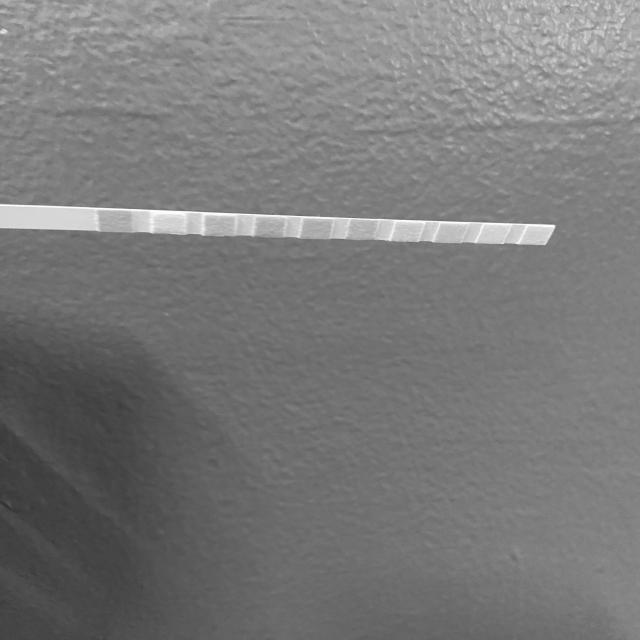Bilirubin: (154, 214, 185, 233)
Blood: (303, 220, 330, 239)
Glucose: (100, 210, 131, 232)
Ketone: (206, 216, 234, 235)
Leukocytes: (530, 226, 545, 245)
Nitrite: (486, 224, 502, 243)
Protein: (397, 222, 418, 241)
SpGravity: (257, 217, 284, 237)
Urobilinogen: (442, 224, 461, 243)
background: (0, 0, 640, 640)
pH: (352, 221, 375, 240)
strip: (0, 204, 556, 245)
